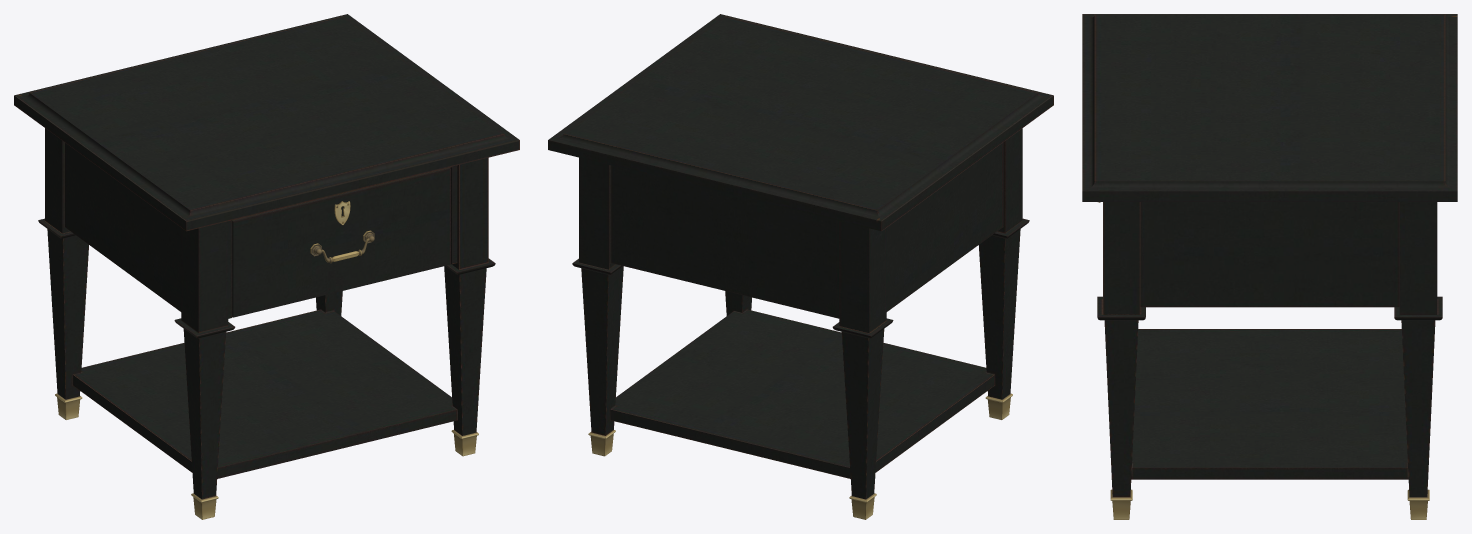
File: example84.glb
3 renders of one model, left to right at view 1: azimuth 30°, elevation 25°; view 2: azimuth 150°, elevation 25°; view 3: azimuth 270°, elevation 25°, orthographic. The views are drawn at different scales.
Visible parts, largest first — view 1: Buffer Layer (×2); view 2: Buffer Layer (×2); view 3: Buffer Layer (×2).
Boxes of the visible parts, x1,y1,x2,y2 form: Buffer Layer (×2): (14, 14, 519, 519); Buffer Layer (×2): (548, 14, 1053, 519); Buffer Layer (×2): (1082, 14, 1457, 519).
Bounding box in the file's own units: 0.65 × 0.5972 × 0.5813.
Materials: 2 (2 with a texture image).
